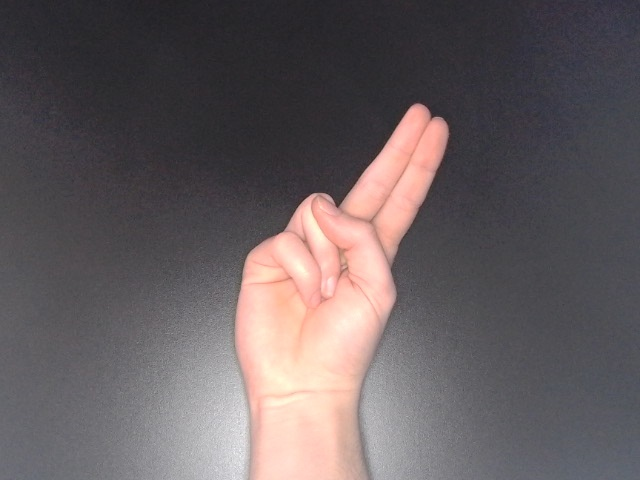u: (227, 96, 454, 422)
